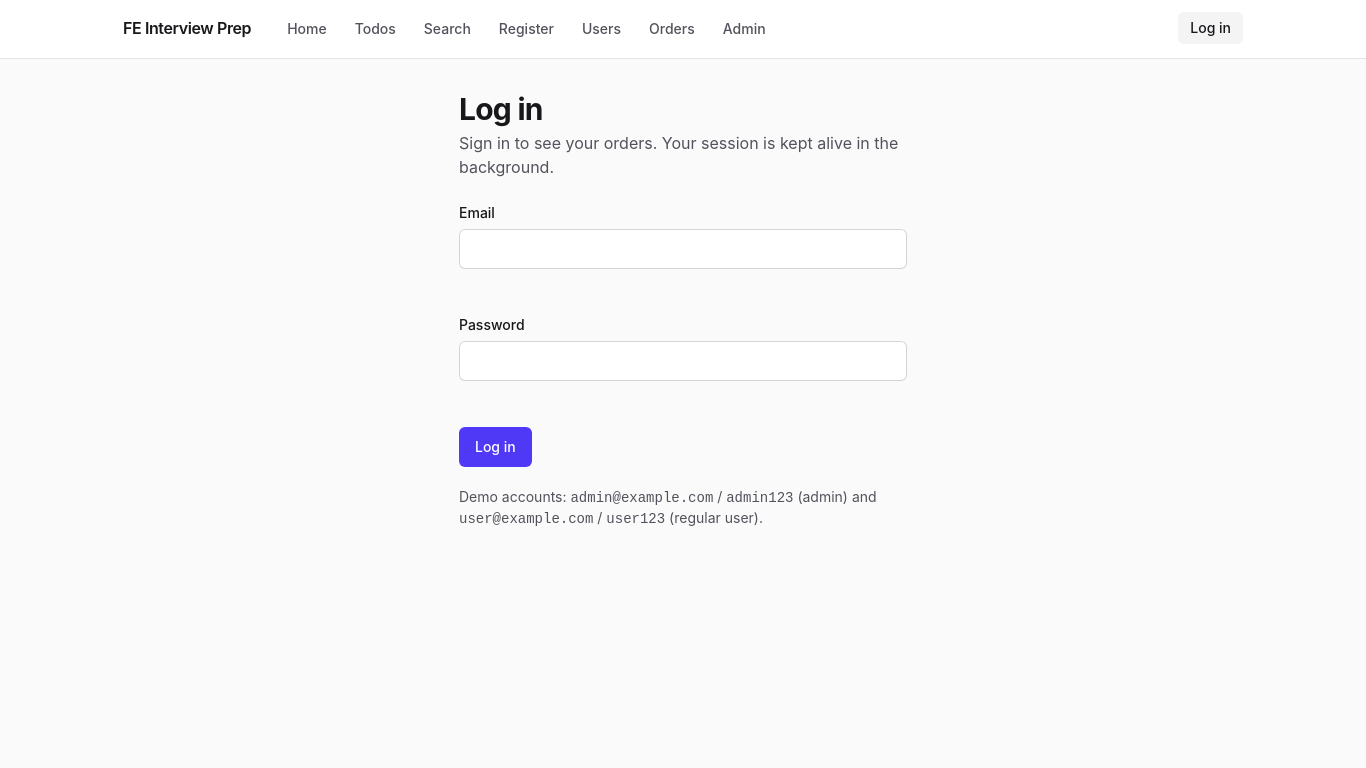
Scenario: LoginPage › announces a failed login and keeps the visitor on the form
Expected: the heading "Log in" is shown, [459,91,543,127]
Type "user@example.com" into the field labelled "Email" at (683, 249), box [459,229,907,269]
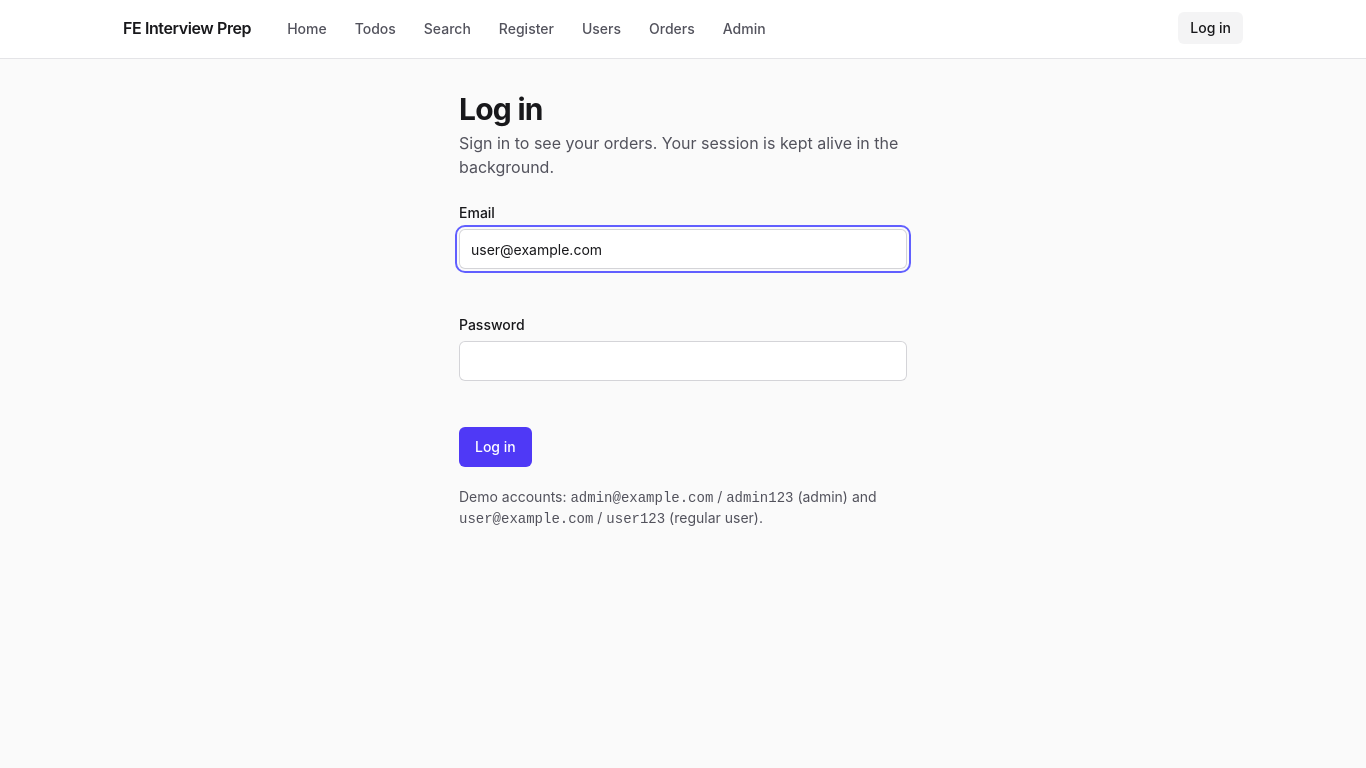
Type "wrong-password" into the password field labelled "Password" at (683, 361), box [459,341,907,381]
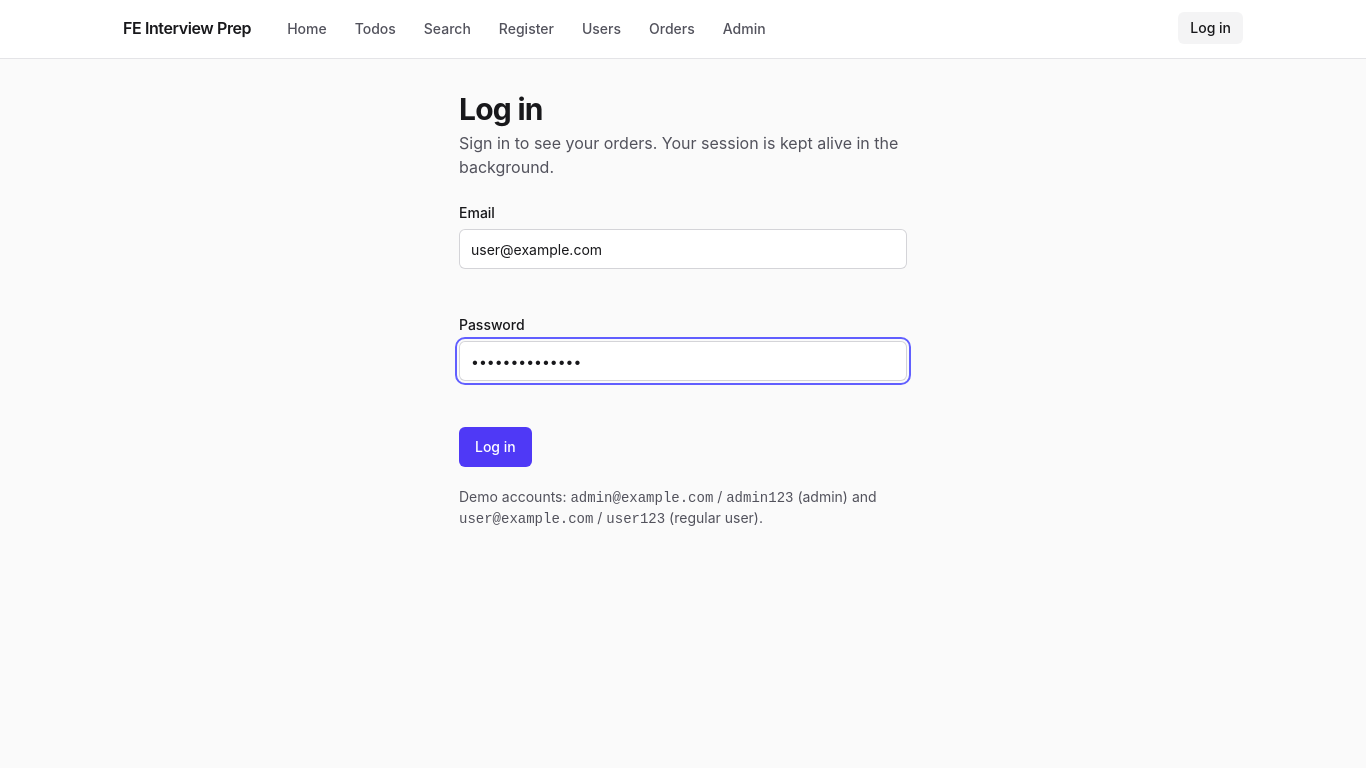
Click the button "Log in" at (495, 447), box [459,427,532,467]
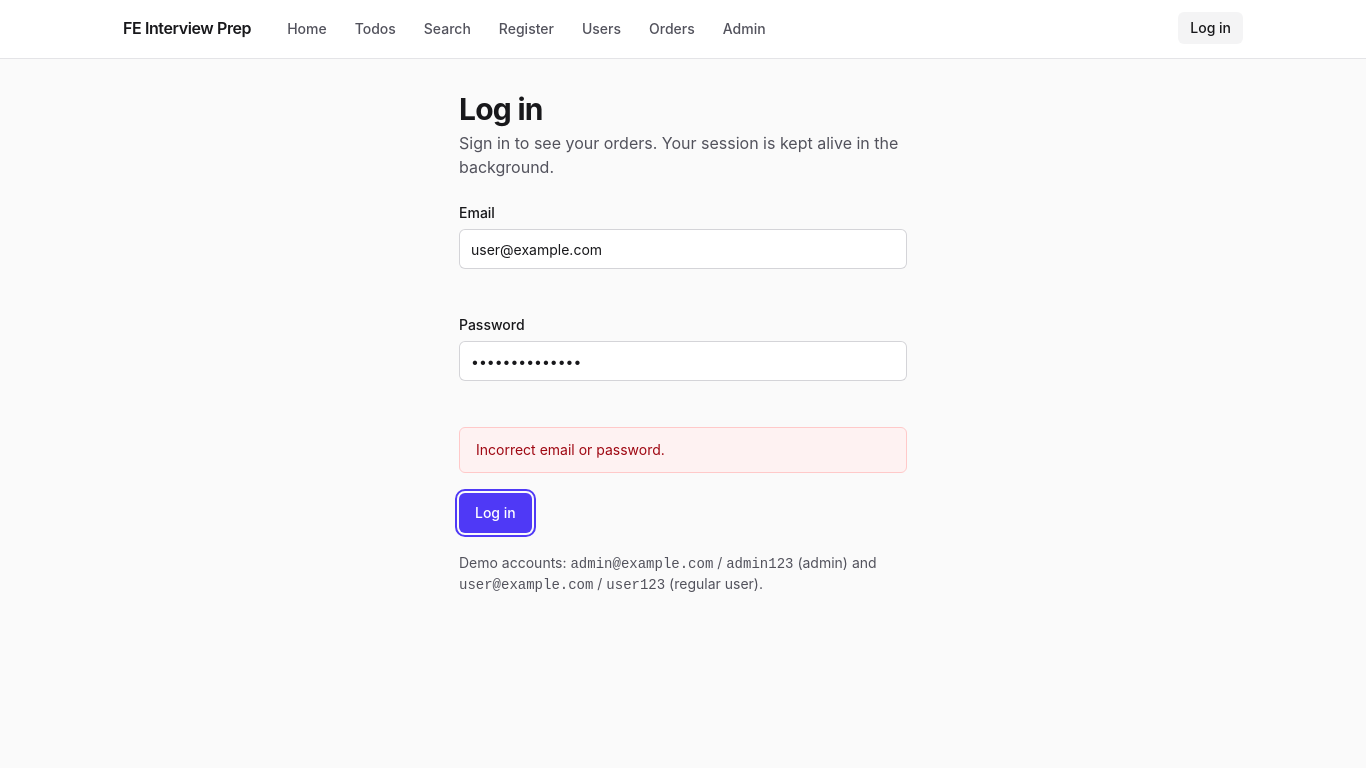
Expected: the message shows "Incorrect email or password", [476,441,665,458]
